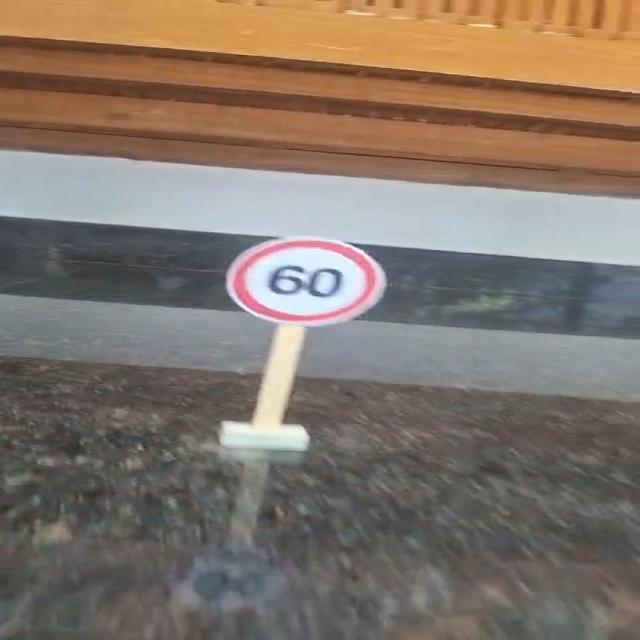Speed60: (223, 234, 390, 331)
